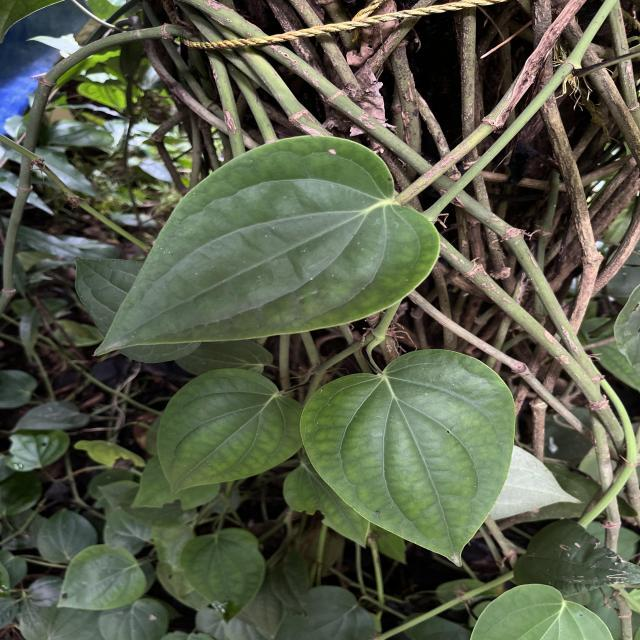Piper nigrum: (92, 134, 442, 358), (298, 346, 517, 568), (154, 366, 304, 496)
